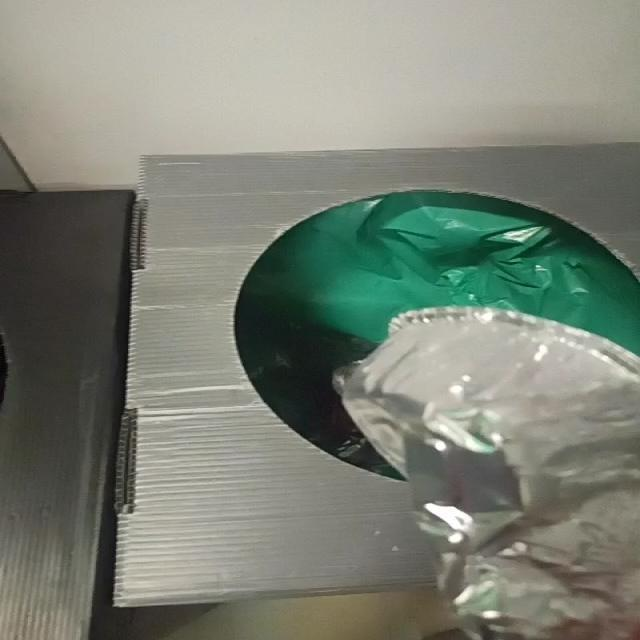Bin: (115, 144, 637, 606)
Metal: (335, 308, 639, 640)
